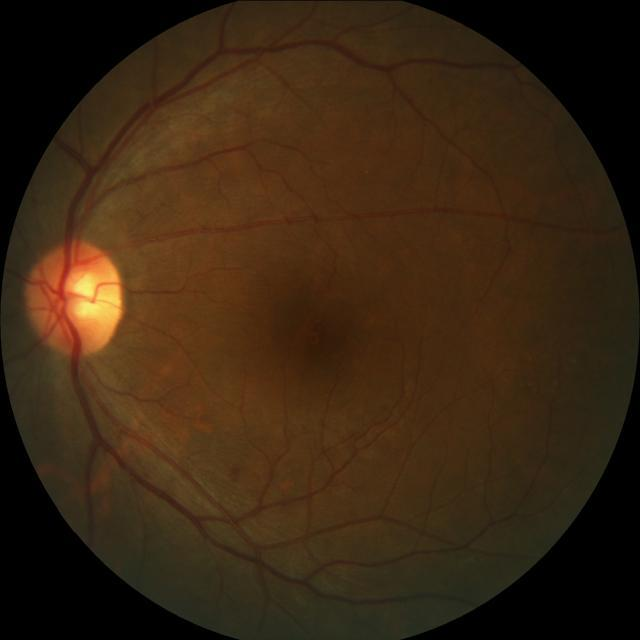OC: (71, 274, 105, 318)
OD: (28, 239, 126, 357)
